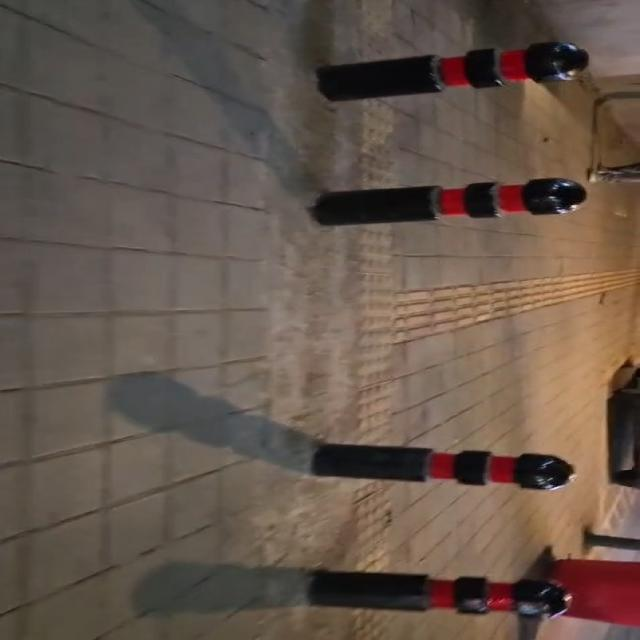obstacle: (584, 531, 639, 551)
